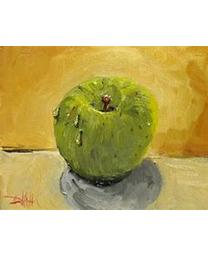apple: (53, 76, 159, 183)
